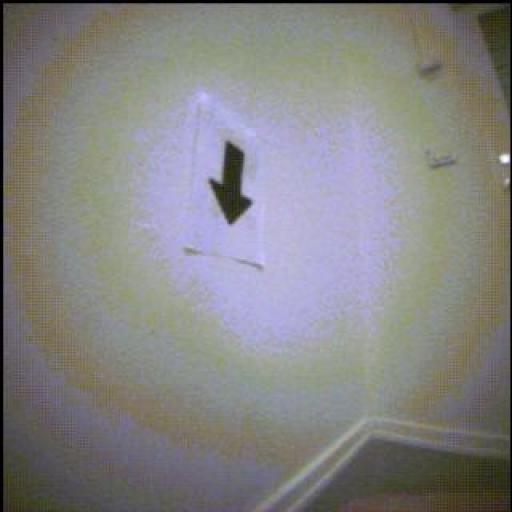arrow: (211, 143, 254, 225)
